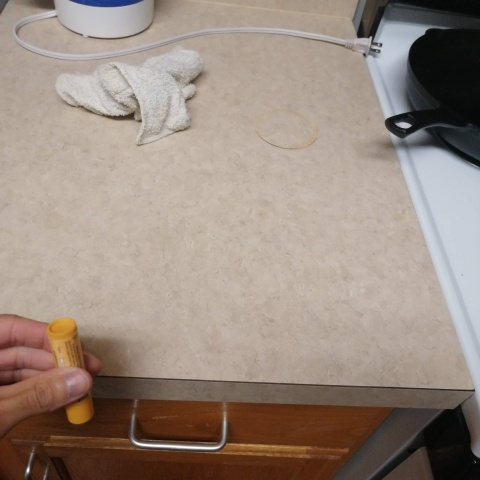chapstick: (45, 317, 96, 426)
